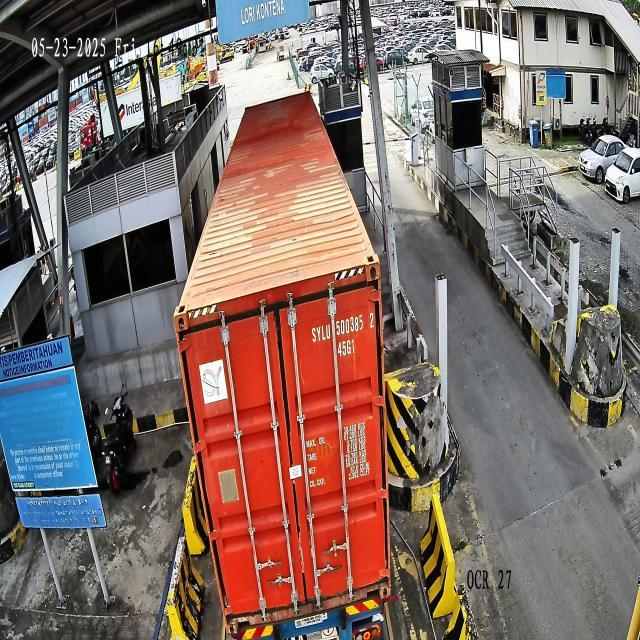ISO: (337, 338, 355, 359)
container_number: (312, 310, 374, 344)
